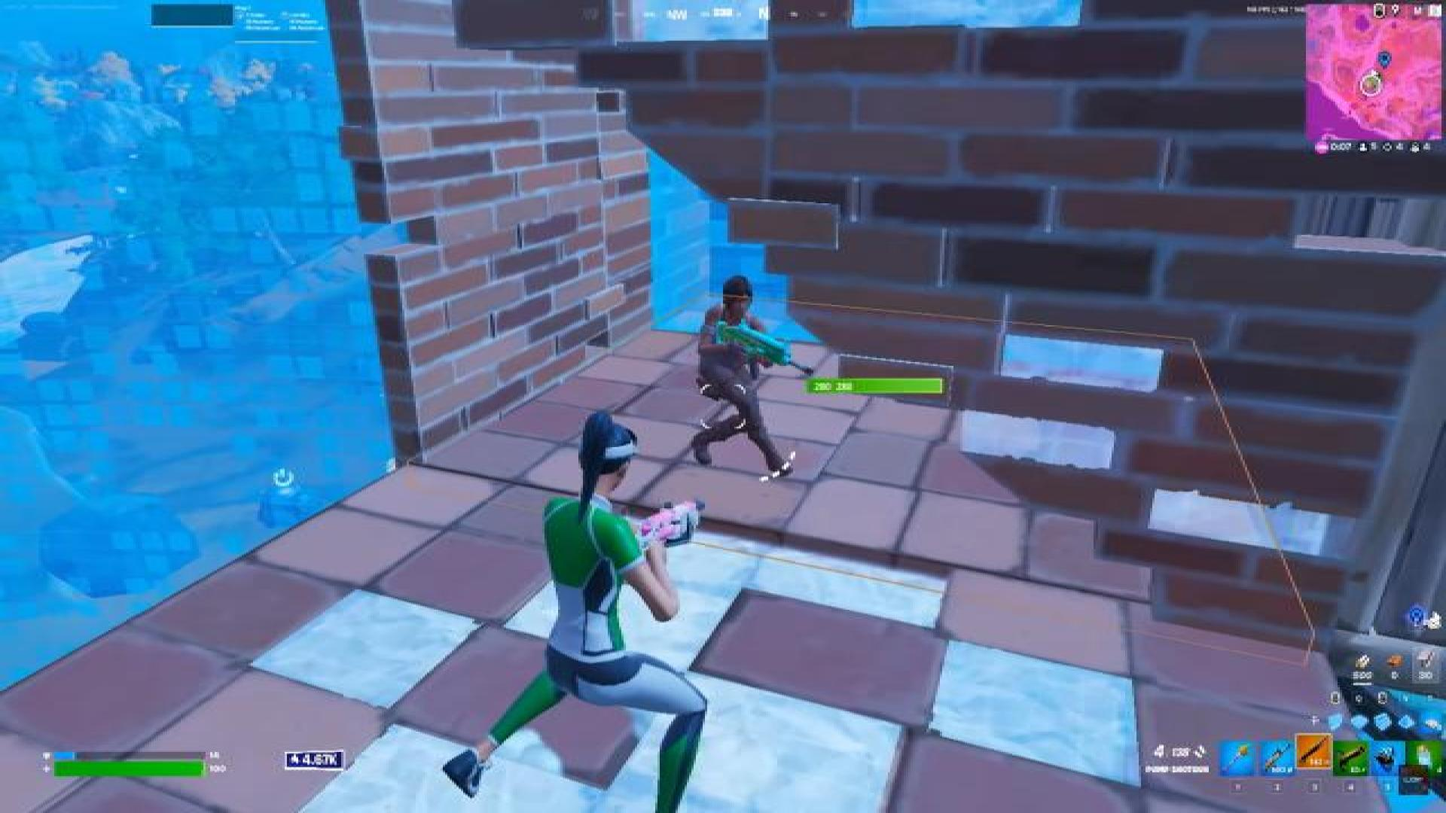player: (443, 405, 707, 813), (691, 270, 789, 473)
